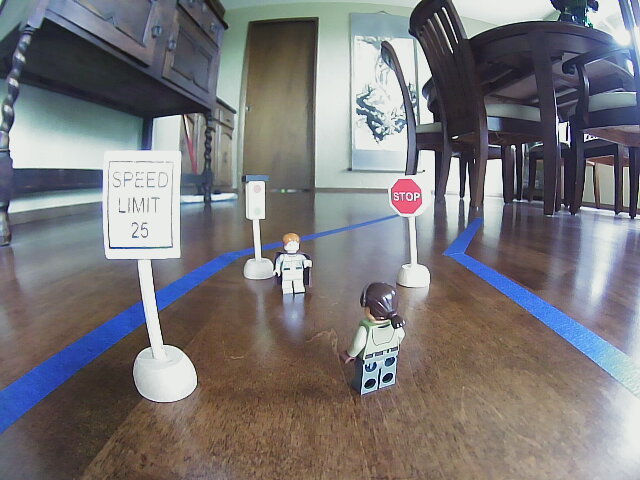SpeedLimit25: (103, 147, 182, 254)
StopSign: (385, 172, 428, 219)
TrafficLight: (241, 171, 269, 225)
person: (337, 277, 409, 396), (271, 230, 317, 299)
